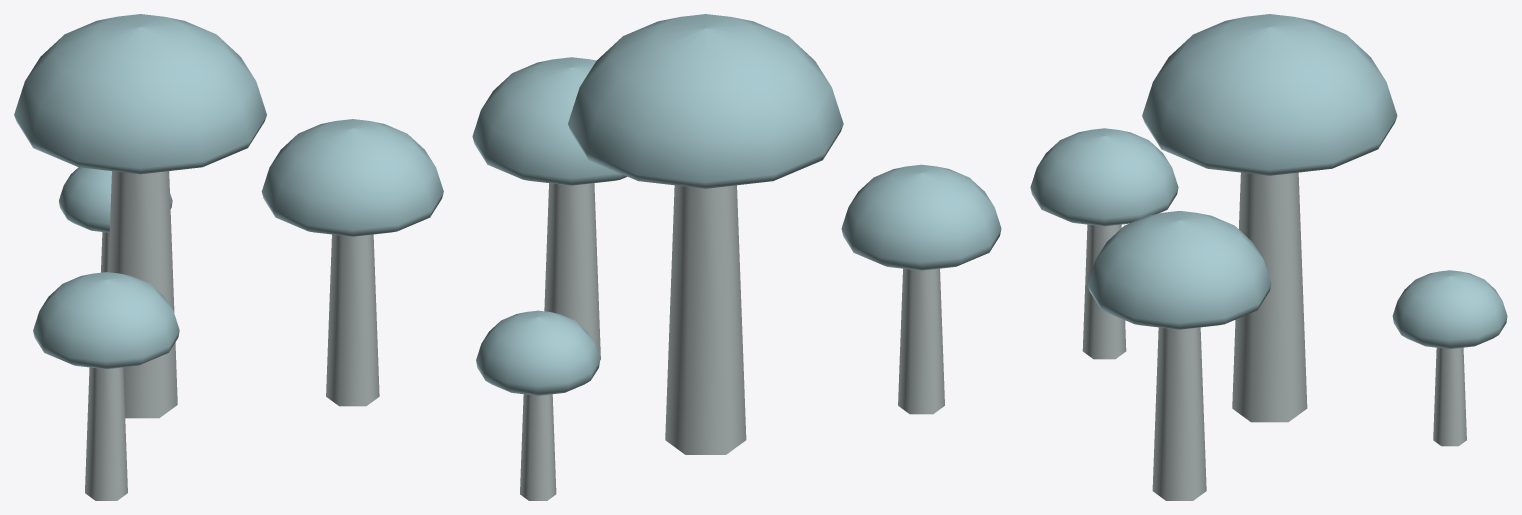
Rendered from giant_glow.glb.
The picture shows the model from 3 angles, left to right: view 1: azimuth 30°, elevation 25°; view 2: azimuth 150°, elevation 25°; view 3: azimuth 270°, elevation 25°; orthographic projection. The views are drawn at different scales.
Visible parts, largest first — view 1: body; view 2: body; view 3: body.
Part boxes in pixels (box(x1,y1,x2,y2)): body: box(14, 14, 443, 500); body: box(472, 14, 1001, 500); body: box(1030, 14, 1507, 500).
Bounding box in the file's own units: 0.661 × 0.56 × 0.6351.
